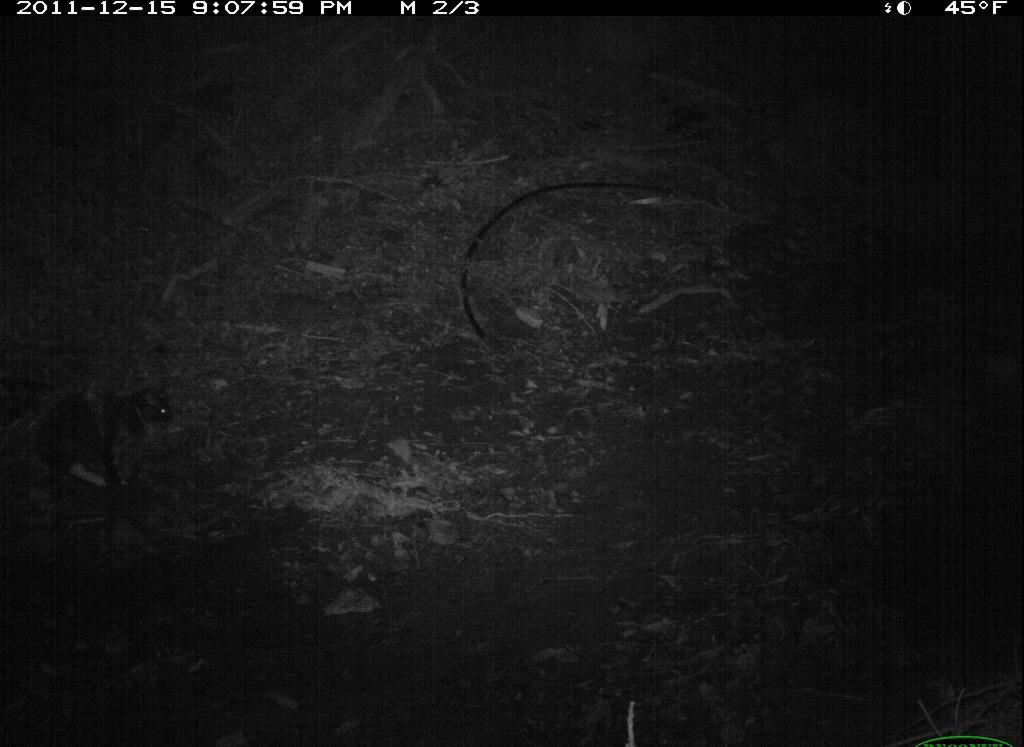cat: (11, 372, 204, 501)
